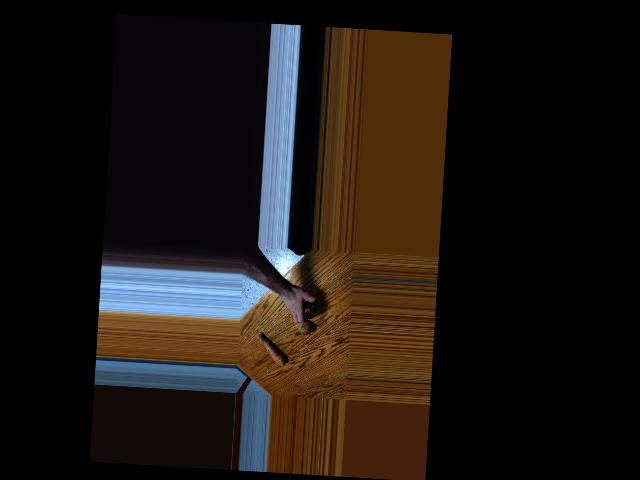onion: (296, 319, 314, 336)
